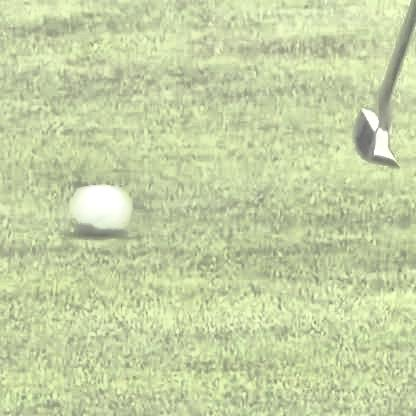golfball: (71, 186, 127, 234)
